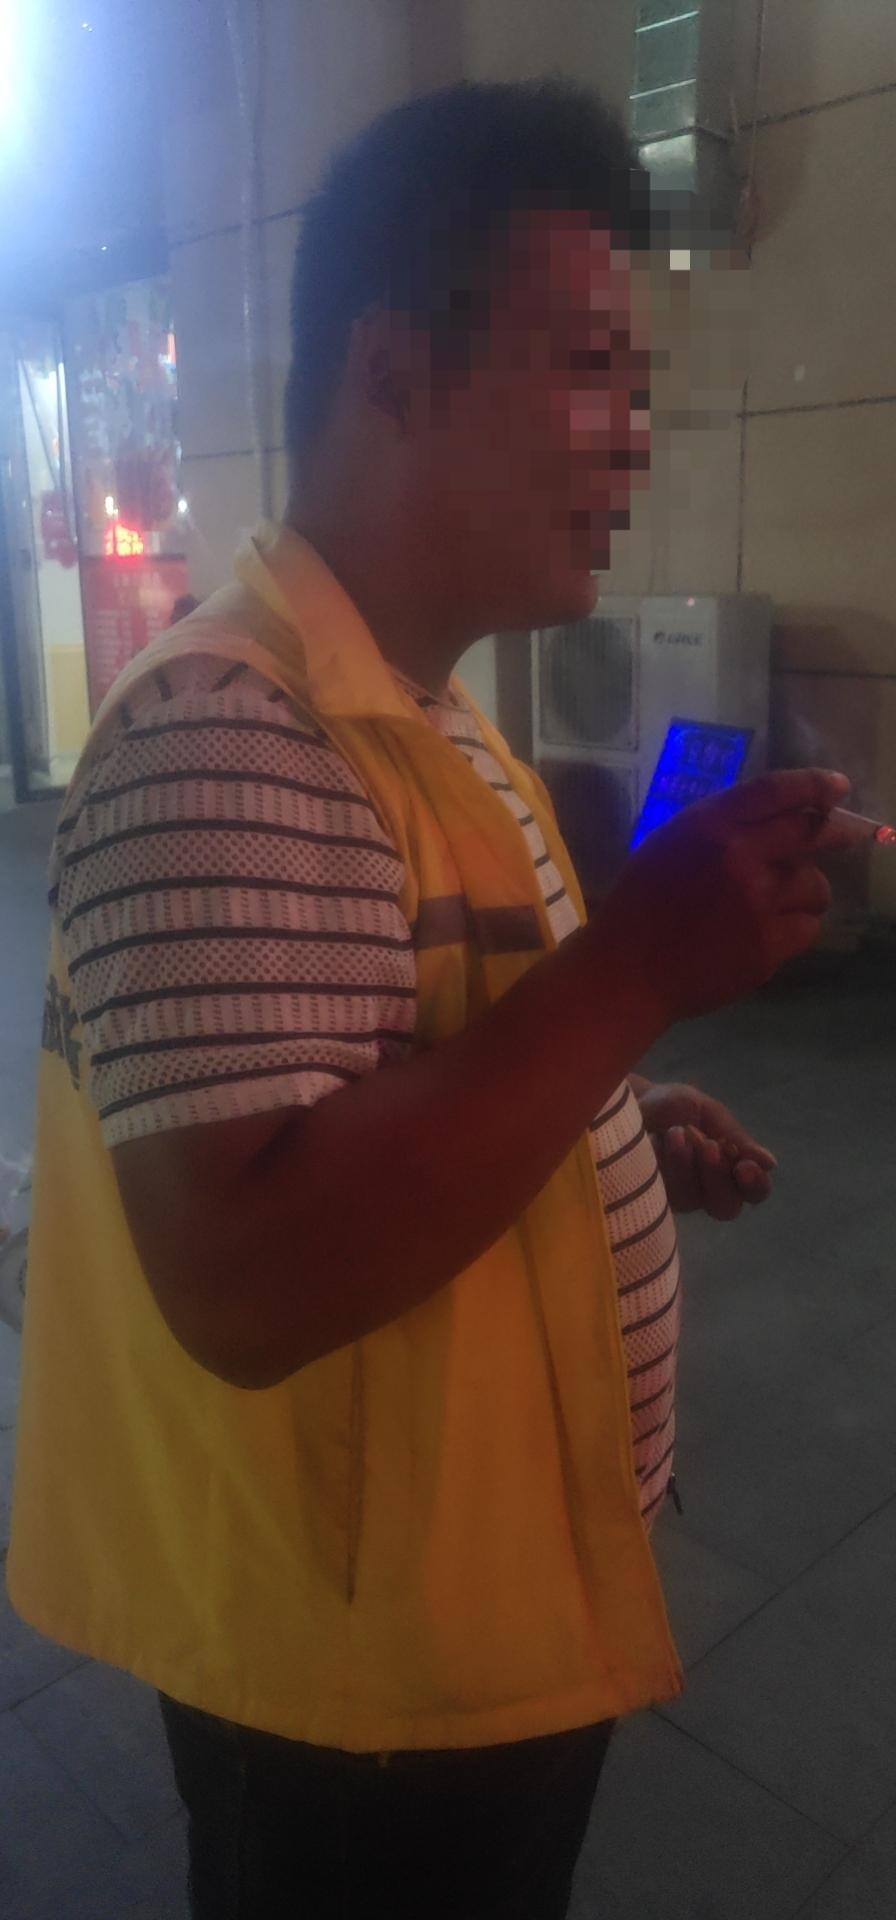smoke: (824, 807, 896, 853)
